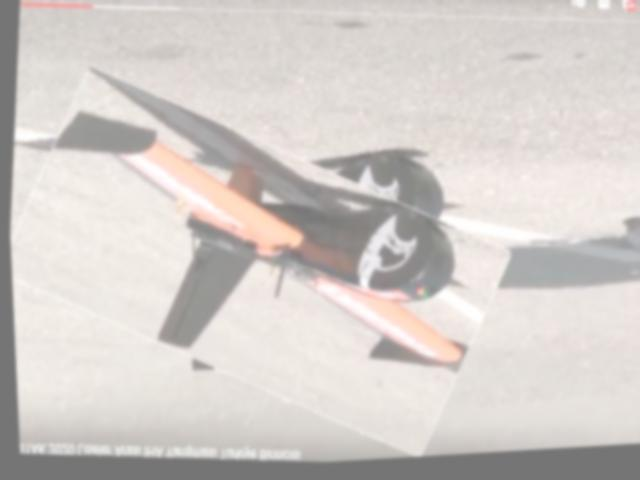insansiz-hava-araci: (4, 81, 514, 447)
